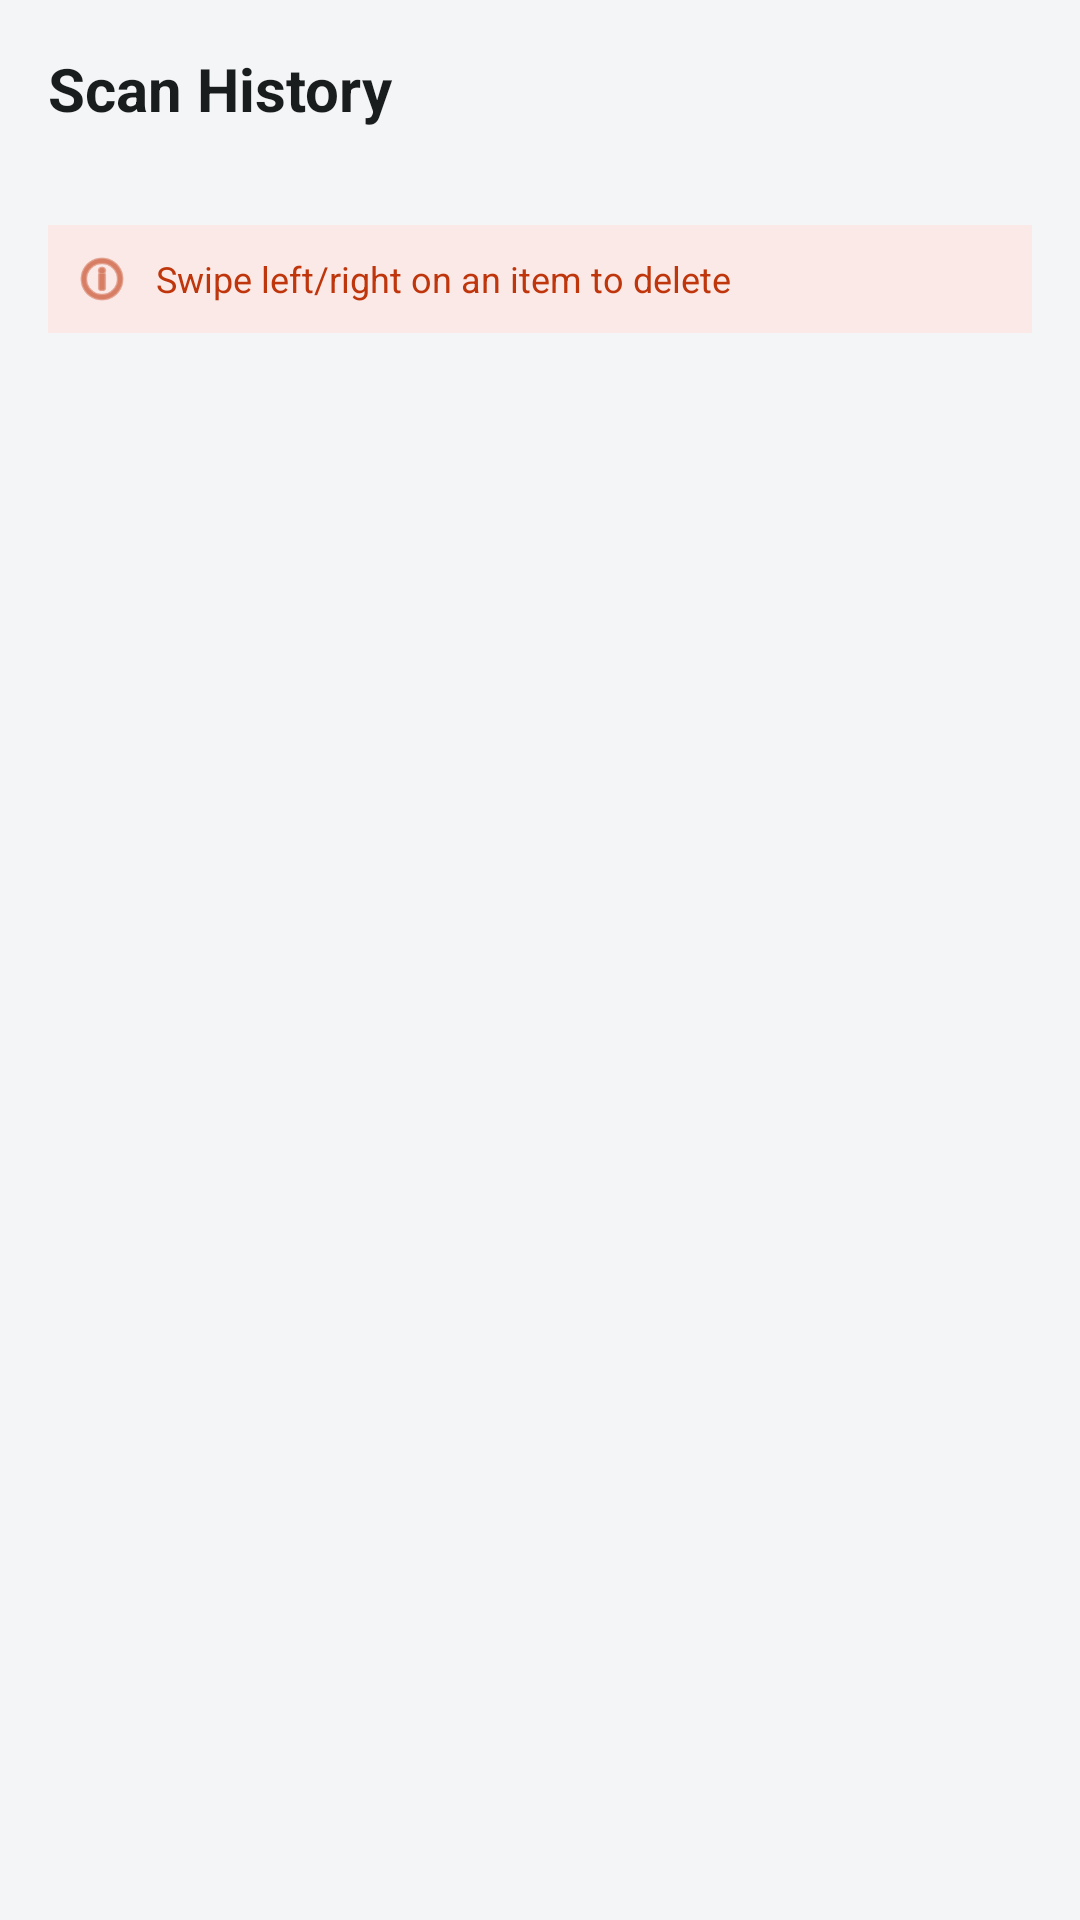

Where to tap for icons on this 1080x1920 app screen, as (x=x, y=y):
info details: (x=102, y=279)
